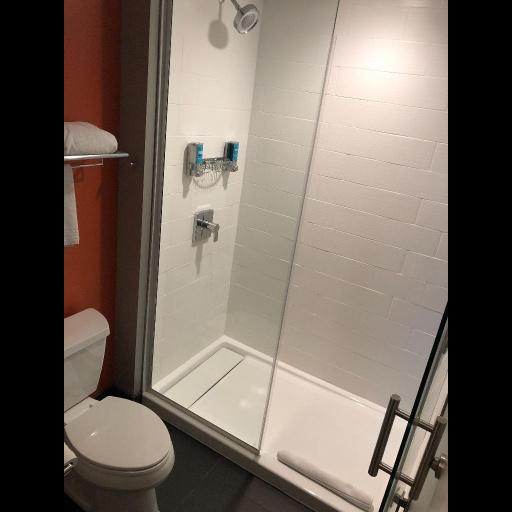clean shower: (129, 0, 449, 511)
clean_toilet: (60, 305, 177, 512)
